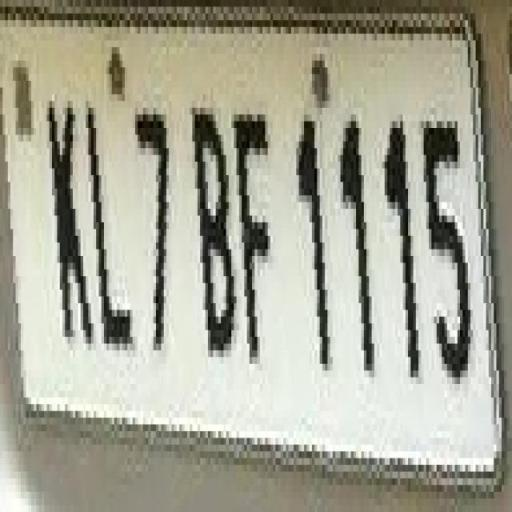number plate: (8, 6, 478, 452)
